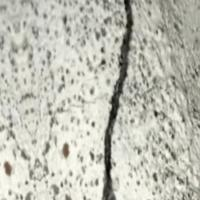crack: (78, 0, 175, 199)
